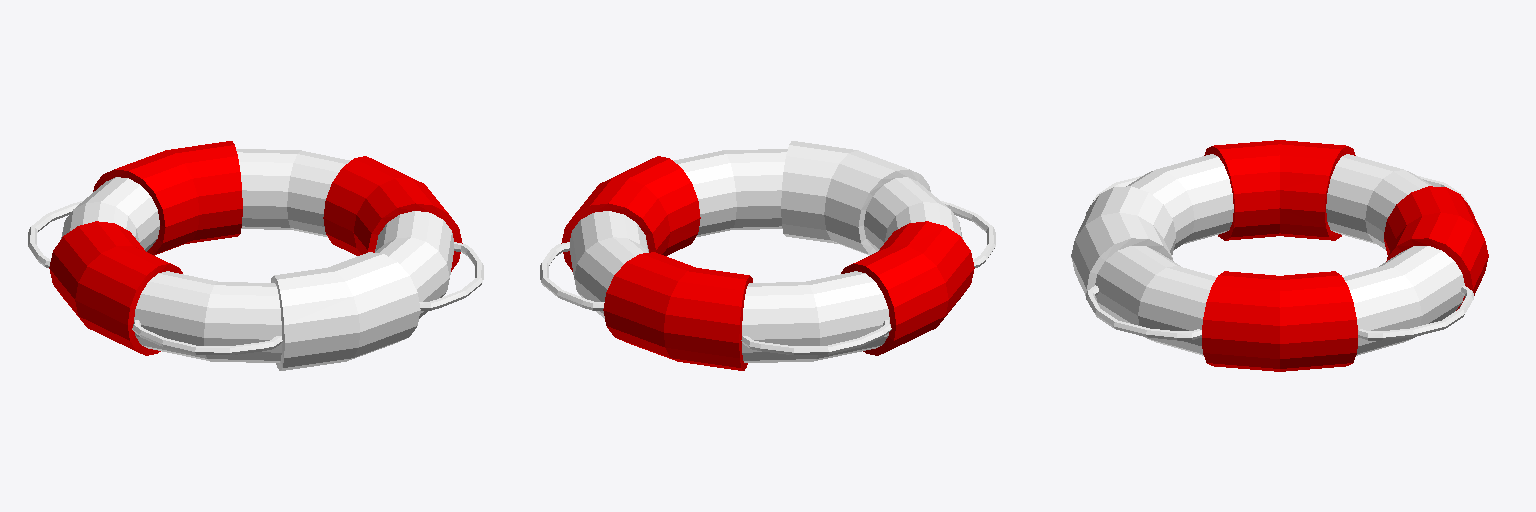
The picture shows the model from 3 angles: view 1: azimuth 30°, elevation 25°; view 2: azimuth 150°, elevation 25°; view 3: azimuth 270°, elevation 25°; orthographic projection.
Visible parts, largest first — view 1: Torus; view 2: Torus; view 3: Torus.
Part boxes in pixels (x1,y1,x2,y2): Torus: (28,141,483,370); Torus: (540,141,995,370); Torus: (1071,140,1488,371).
Size of the model in its own units: 1 by 0.2307 by 1.
Materials: 1 (1 with a texture image).